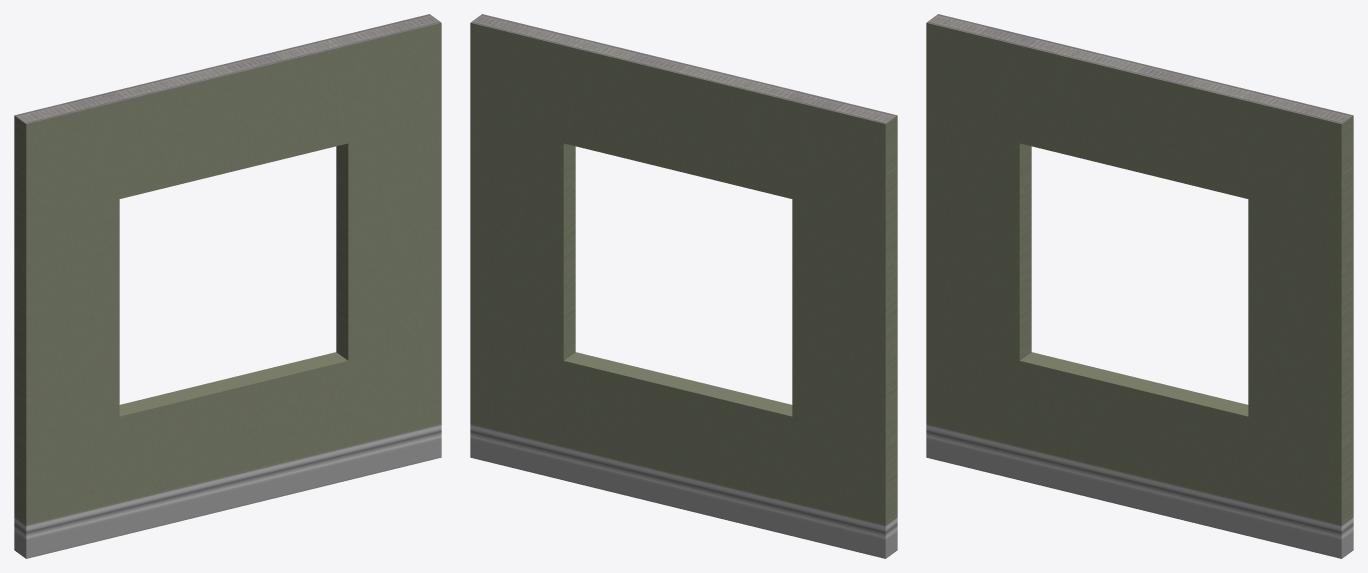
Rendered from wall3_8.fbx.
3 renders of one model, left to right at view 1: azimuth 30°, elevation 25°; view 2: azimuth 150°, elevation 25°; view 3: azimuth 330°, elevation 25°, orthographic.
Visible parts, largest first — view 1: wall3_willow_h; view 2: wall3_willow_h; view 3: wall3_willow_h.
Part boxes in pixels (left/top/right/bottom): wall3_willow_h: left=14, top=14, right=441, bottom=558; wall3_willow_h: left=470, top=14, right=897, bottom=558; wall3_willow_h: left=926, top=14, right=1353, bottom=558.
Bounding box in the file's own units: 400 × 400 × 20.
